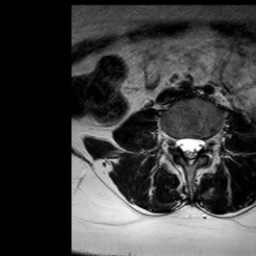CCS_normal: (185, 127, 194, 171)
LFS_normal: (204, 126, 213, 157)
LLS_normal: (194, 127, 204, 160)
RFS_normal: (166, 125, 175, 157)
RLS_normal: (175, 128, 185, 158)
